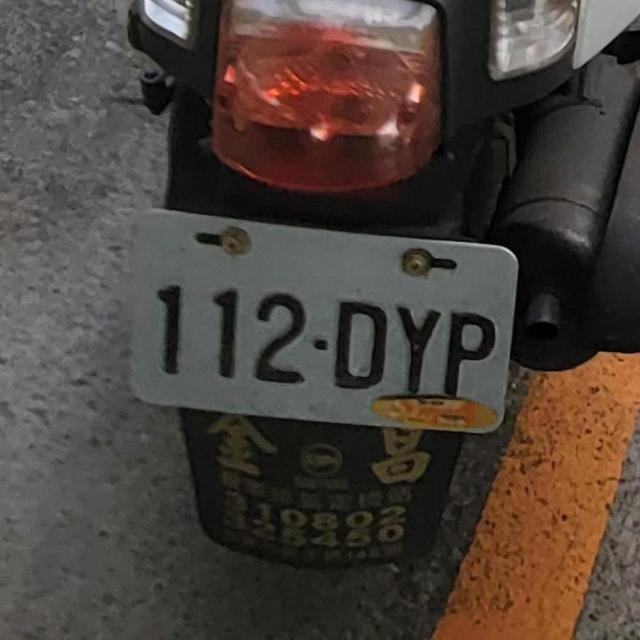W: (116, 202, 528, 448)
